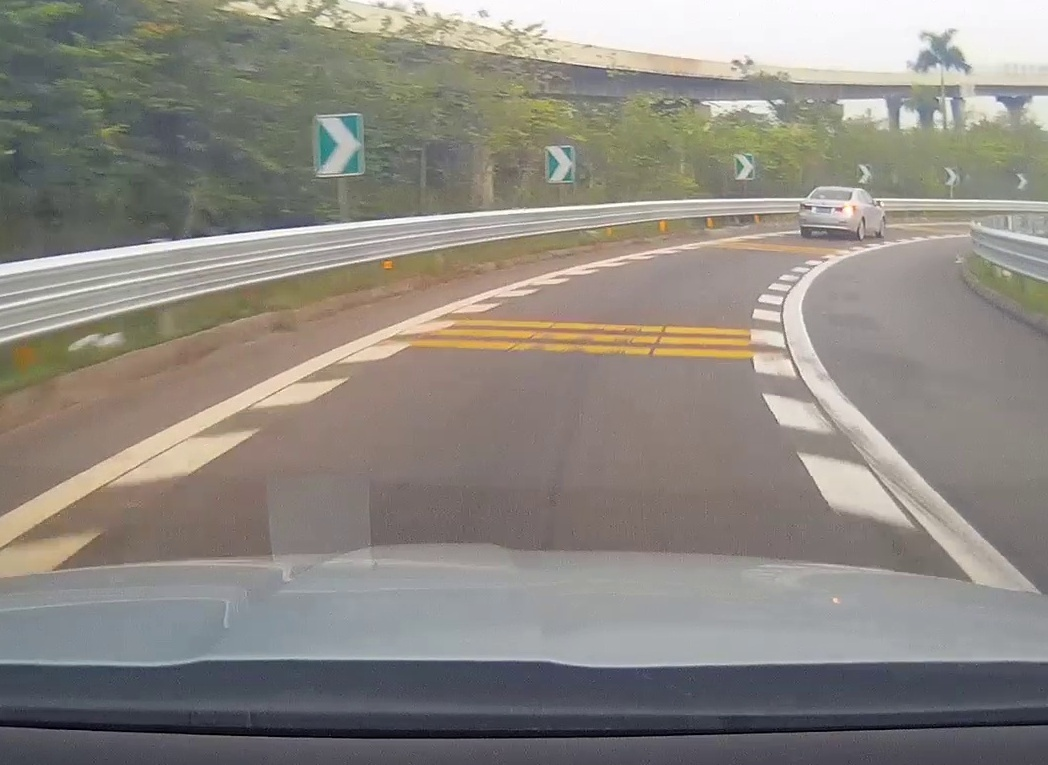L_light: (800, 203, 812, 210)
R_light: (835, 205, 856, 212)
T_light: (829, 189, 838, 192)
day-right: (798, 186, 857, 240)
